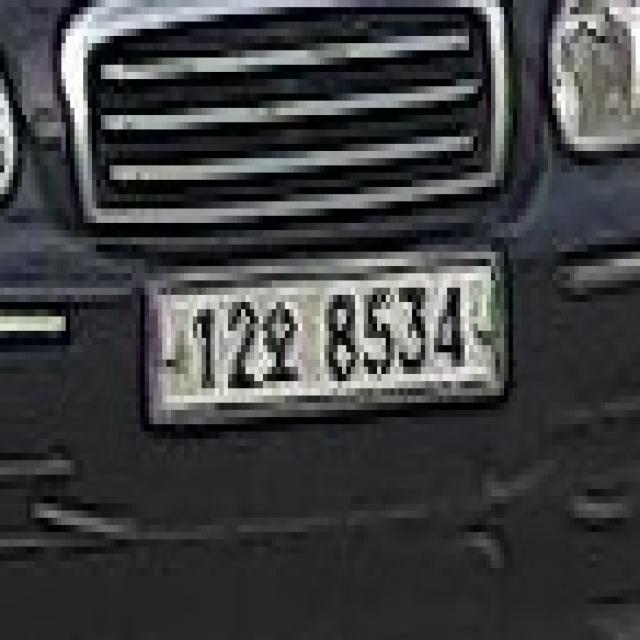1: (189, 302, 219, 410)
2: (224, 295, 263, 403)
3: (394, 281, 430, 388)
4: (434, 274, 473, 396)
5: (360, 288, 394, 388)
8: (320, 288, 359, 396)
license_plate: (140, 237, 522, 453)
o: (263, 288, 307, 396)
